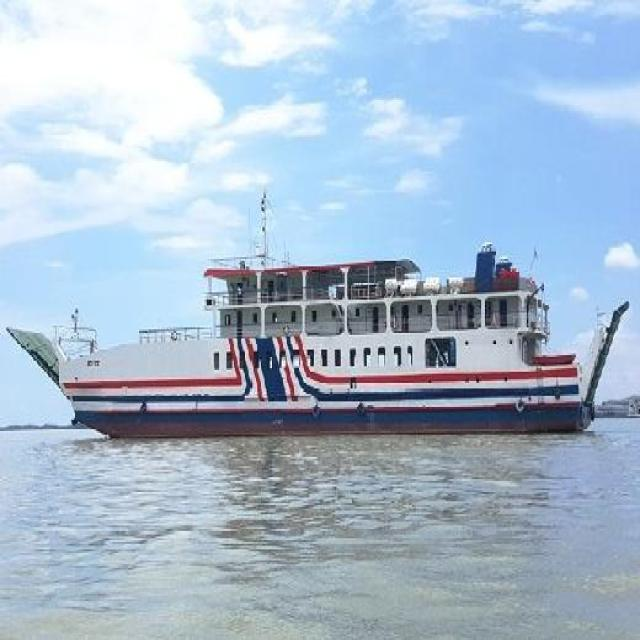passenger ship: (13, 241, 624, 449)
